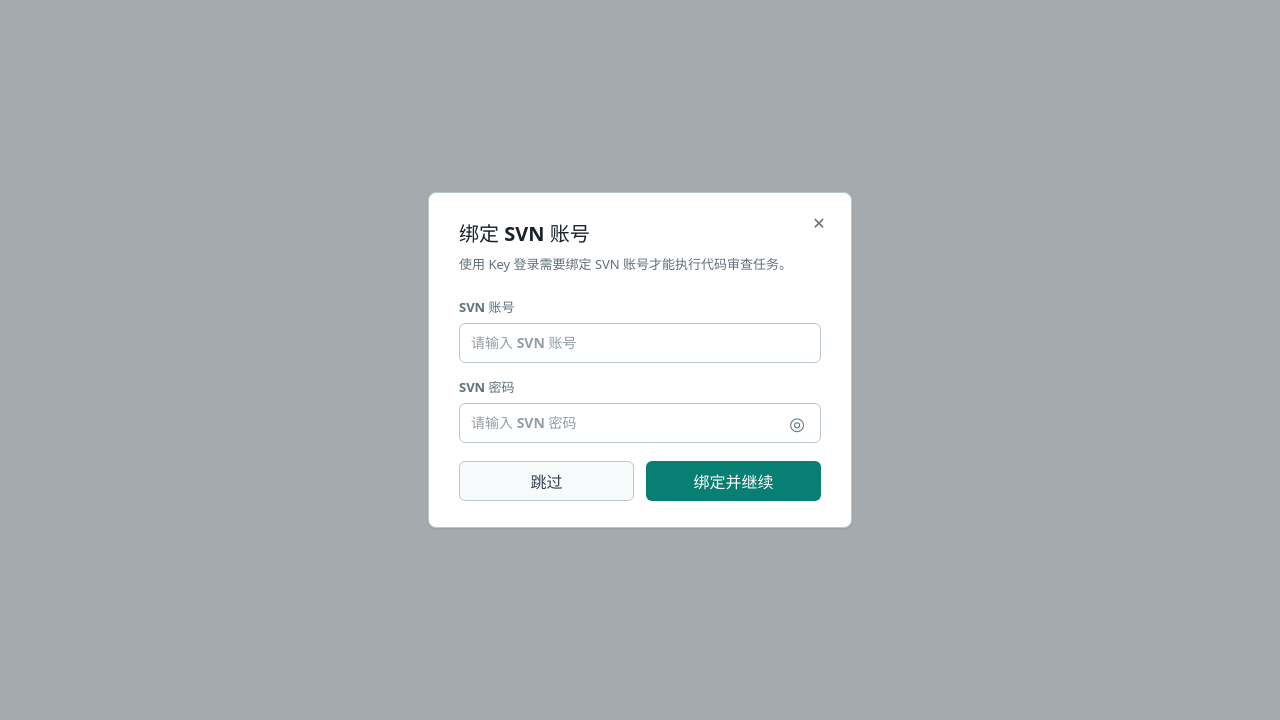
Test: SvnBindingDialog › 可以切换 SVN 密码的可见性
Click the button named "显示 SVN 密码": click(797, 423) [781,407,813,439]
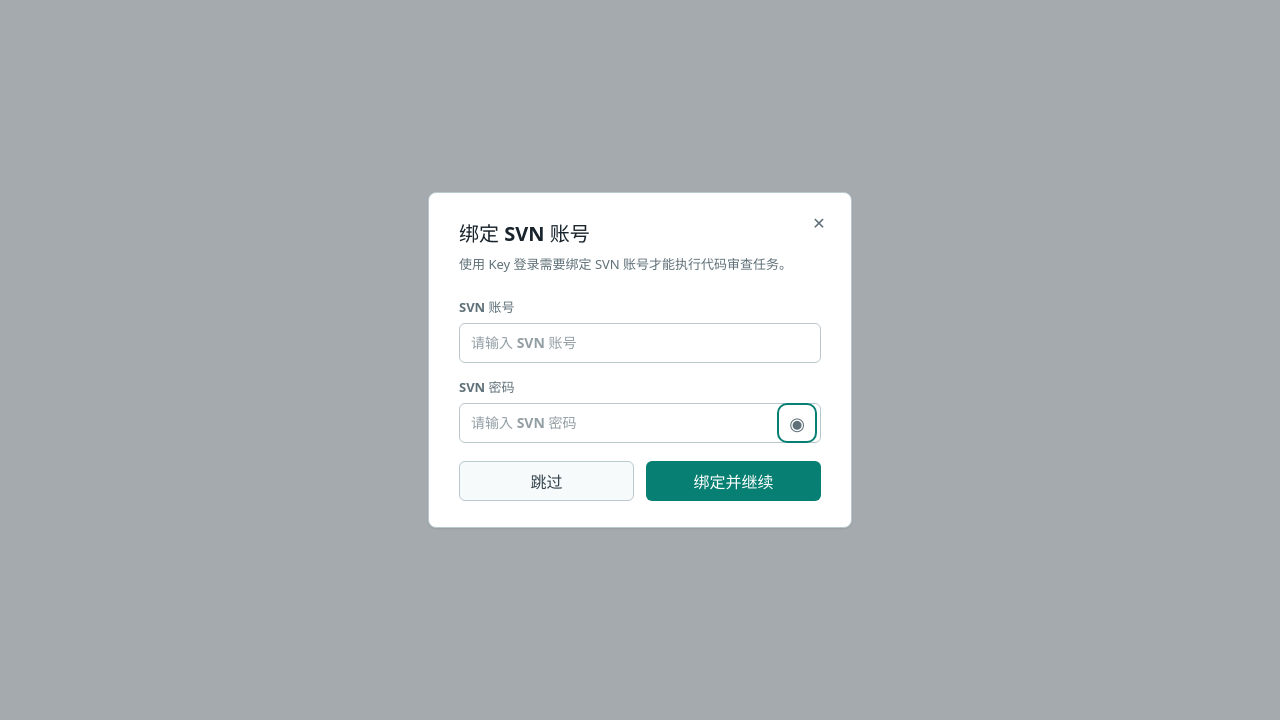
Check: the button named "隐藏 SVN 密码" is shown, box [781,407,813,439]
